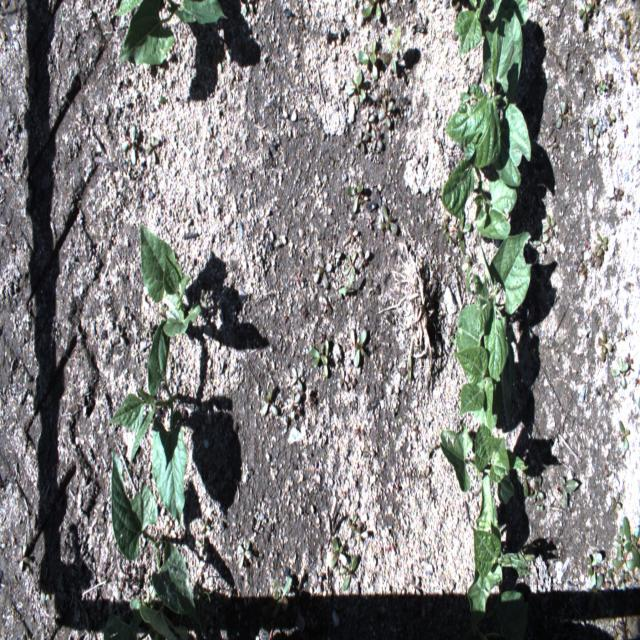crop: (103, 451, 197, 639), (108, 319, 188, 525), (443, 6, 532, 188), (455, 231, 533, 428), (438, 421, 530, 555), (112, 0, 228, 64), (140, 224, 202, 336), (467, 521, 535, 623), (439, 158, 516, 242), (450, 345, 502, 442), (454, 0, 528, 60)
weed: (610, 514, 640, 582), (268, 576, 292, 638), (382, 23, 403, 80), (513, 454, 539, 498), (449, 210, 472, 256), (345, 67, 366, 105), (556, 476, 580, 509), (610, 524, 632, 560), (338, 554, 358, 592), (120, 123, 137, 166), (259, 383, 279, 419), (378, 200, 398, 235), (347, 182, 369, 212), (611, 418, 631, 451), (611, 355, 629, 390), (588, 572, 604, 611), (353, 327, 368, 368), (190, 580, 215, 604), (528, 473, 546, 506), (308, 341, 328, 370), (590, 548, 603, 592), (349, 521, 368, 551), (531, 226, 551, 254), (236, 537, 252, 571), (597, 330, 613, 364), (378, 98, 394, 131), (330, 537, 347, 568), (144, 135, 161, 165), (353, 126, 370, 156), (318, 252, 332, 288), (354, 44, 376, 66), (617, 17, 632, 49), (148, 90, 166, 116), (290, 363, 305, 394), (287, 390, 301, 422), (540, 210, 556, 238), (592, 229, 609, 255), (17, 541, 30, 574), (586, 114, 601, 142), (594, 23, 607, 55), (343, 249, 357, 278), (338, 270, 354, 295), (39, 570, 50, 606), (555, 100, 569, 128), (420, 465, 433, 493), (578, 0, 592, 26), (357, 247, 371, 272), (370, 126, 383, 152), (590, 244, 605, 266), (603, 103, 617, 126), (608, 491, 622, 514), (194, 529, 205, 558), (206, 122, 218, 148), (409, 573, 421, 599), (198, 516, 212, 538), (346, 512, 357, 540), (371, 36, 378, 80), (361, 0, 377, 19), (545, 133, 558, 156), (616, 571, 629, 594), (602, 133, 614, 157), (362, 109, 375, 131), (586, 552, 597, 578), (310, 265, 324, 285), (322, 338, 329, 378), (562, 95, 573, 120), (348, 327, 356, 361), (344, 225, 358, 244), (327, 246, 341, 265), (321, 294, 333, 316), (338, 368, 349, 392), (240, 0, 256, 16), (461, 253, 472, 276), (616, 321, 628, 342), (628, 65, 639, 87), (376, 83, 388, 102), (362, 444, 376, 460), (607, 558, 618, 578), (353, 424, 365, 442), (623, 352, 634, 371), (600, 578, 611, 597), (199, 290, 209, 310), (424, 442, 436, 458), (412, 418, 420, 442), (365, 455, 373, 478), (374, 0, 383, 20), (579, 261, 588, 281), (618, 10, 629, 26), (610, 616, 618, 638), (588, 0, 599, 15), (614, 186, 624, 202), (603, 72, 614, 86), (293, 273, 304, 286), (621, 206, 631, 220), (383, 87, 391, 104), (407, 358, 412, 382), (441, 219, 448, 236), (365, 216, 373, 230), (598, 82, 606, 95), (623, 122, 629, 138), (445, 233, 452, 246), (450, 336, 457, 347), (274, 240, 282, 249), (536, 504, 544, 512)
